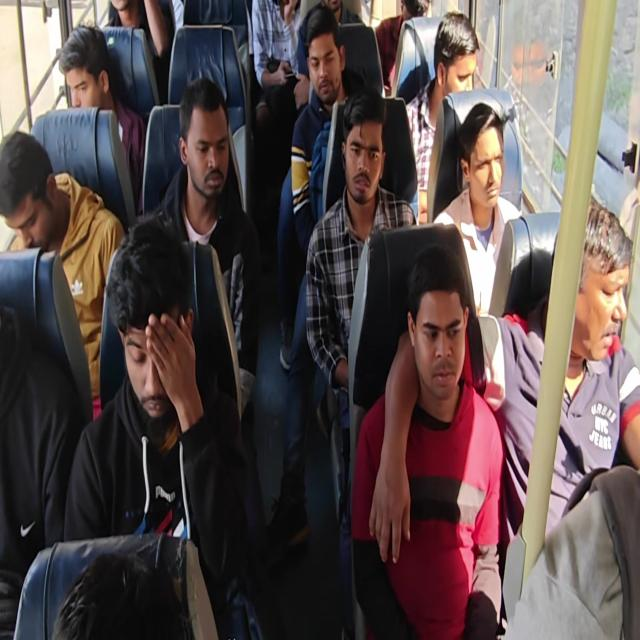person: (338, 0, 375, 640)
